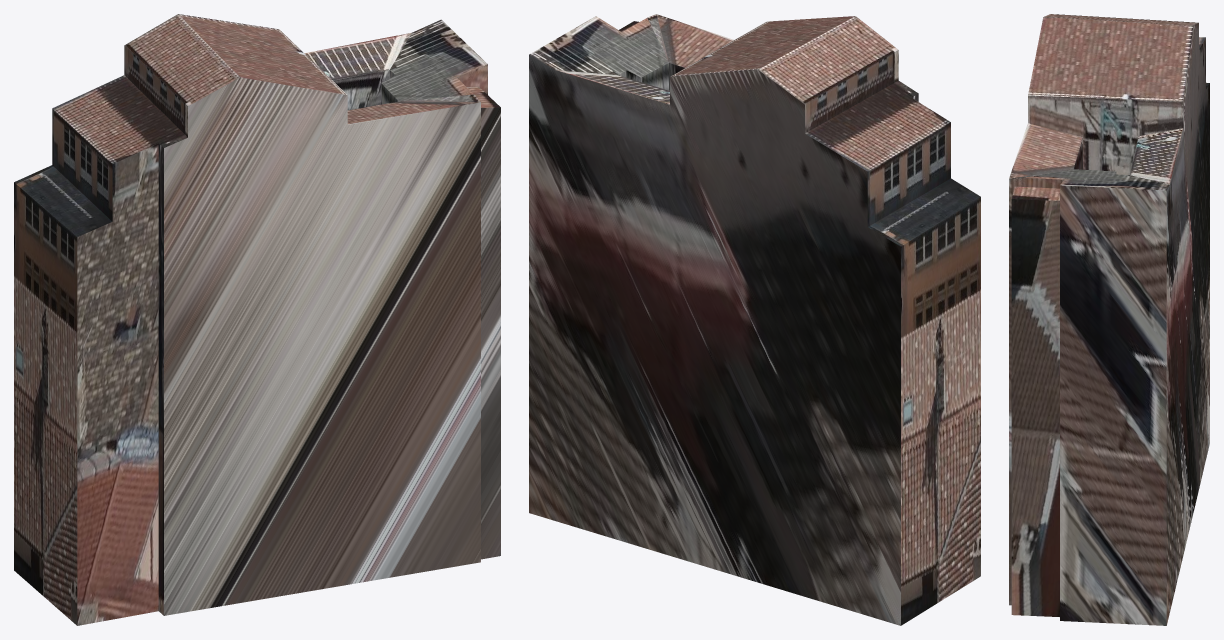
The picture shows the model from 3 angles, left to right: view 1: azimuth 30°, elevation 25°; view 2: azimuth 150°, elevation 25°; view 3: azimuth 270°, elevation 25°; orthographic projection. The views are drawn at different scales.
Parts seen in each view (by area): view 1: Z_UP; view 2: Z_UP; view 3: Z_UP.
Boxes of the visible parts, <box> form: Z_UP: <box>14,14,500,625</box>; Z_UP: <box>529,14,980,625</box>; Z_UP: <box>1009,14,1209,625</box>.
Size of the model in its own units: 22.5 by 27.33 by 10.21.
2 materials, 1 textured.
